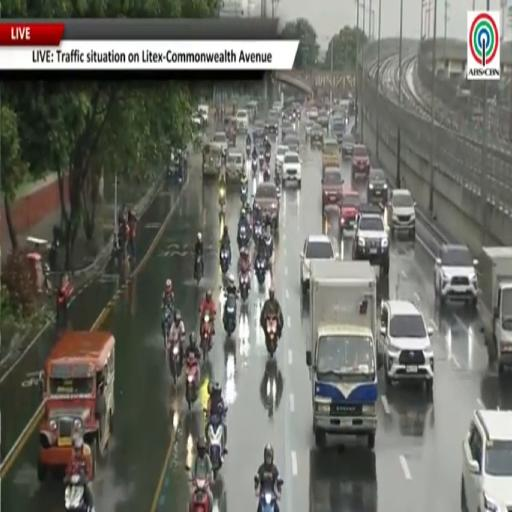car: (460, 409, 511, 511), (380, 300, 434, 393), (435, 245, 478, 308), (352, 205, 389, 276), (300, 235, 335, 294), (387, 189, 416, 240), (254, 182, 279, 231), (322, 168, 343, 212), (340, 187, 360, 231), (367, 168, 387, 204), (282, 152, 301, 187), (322, 138, 340, 174), (352, 144, 370, 180), (227, 151, 245, 180), (332, 117, 345, 145), (310, 123, 324, 147), (265, 111, 279, 135), (212, 132, 228, 151), (276, 146, 289, 169), (236, 109, 249, 132), (342, 134, 355, 157), (253, 120, 265, 140), (283, 132, 299, 147), (198, 104, 209, 125), (283, 108, 298, 122), (191, 112, 203, 127), (304, 119, 313, 138), (307, 106, 318, 120), (292, 103, 301, 120), (282, 120, 294, 132), (318, 116, 329, 128), (289, 141, 299, 153), (273, 101, 283, 113)
jeepney: (38, 331, 115, 481), (203, 143, 221, 178), (227, 152, 245, 183), (223, 115, 236, 147), (246, 101, 257, 121)
motorcycle: (207, 414, 224, 477), (64, 474, 91, 512), (189, 476, 212, 511), (255, 476, 278, 511), (186, 354, 199, 410), (167, 340, 182, 385), (222, 293, 237, 336), (265, 315, 278, 357), (201, 312, 212, 360), (162, 306, 173, 347), (237, 224, 250, 250), (239, 271, 250, 301), (255, 258, 266, 286), (220, 249, 230, 275), (194, 254, 202, 284), (265, 237, 273, 267), (254, 222, 263, 244), (219, 188, 226, 216), (240, 184, 248, 203), (263, 166, 270, 182), (276, 181, 281, 199), (252, 158, 257, 175), (259, 154, 264, 169), (265, 151, 270, 164), (246, 144, 251, 157)
truck: (306, 261, 379, 449), (477, 247, 511, 374), (309, 451, 377, 511)
